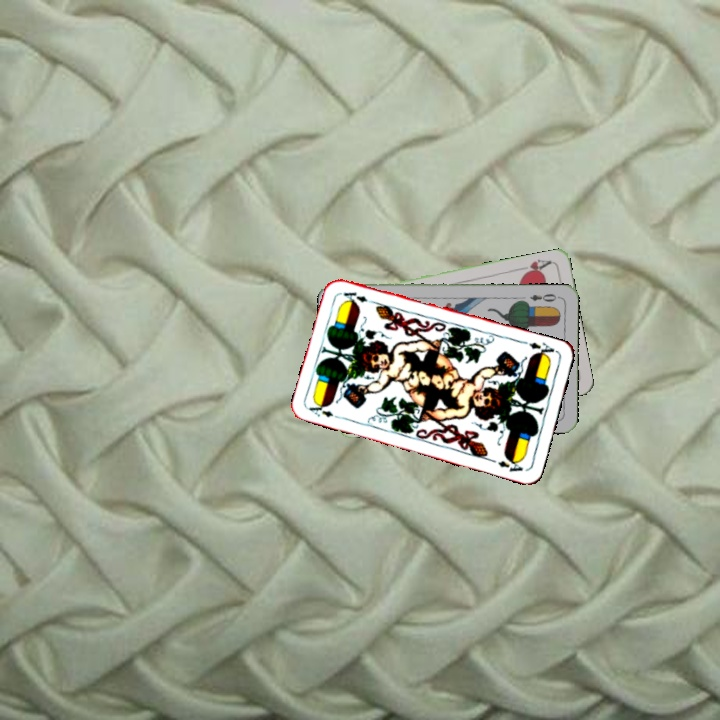EA: (305, 398, 345, 422), (525, 338, 560, 361)
EO: (526, 289, 562, 305)
HA: (514, 255, 554, 279)
